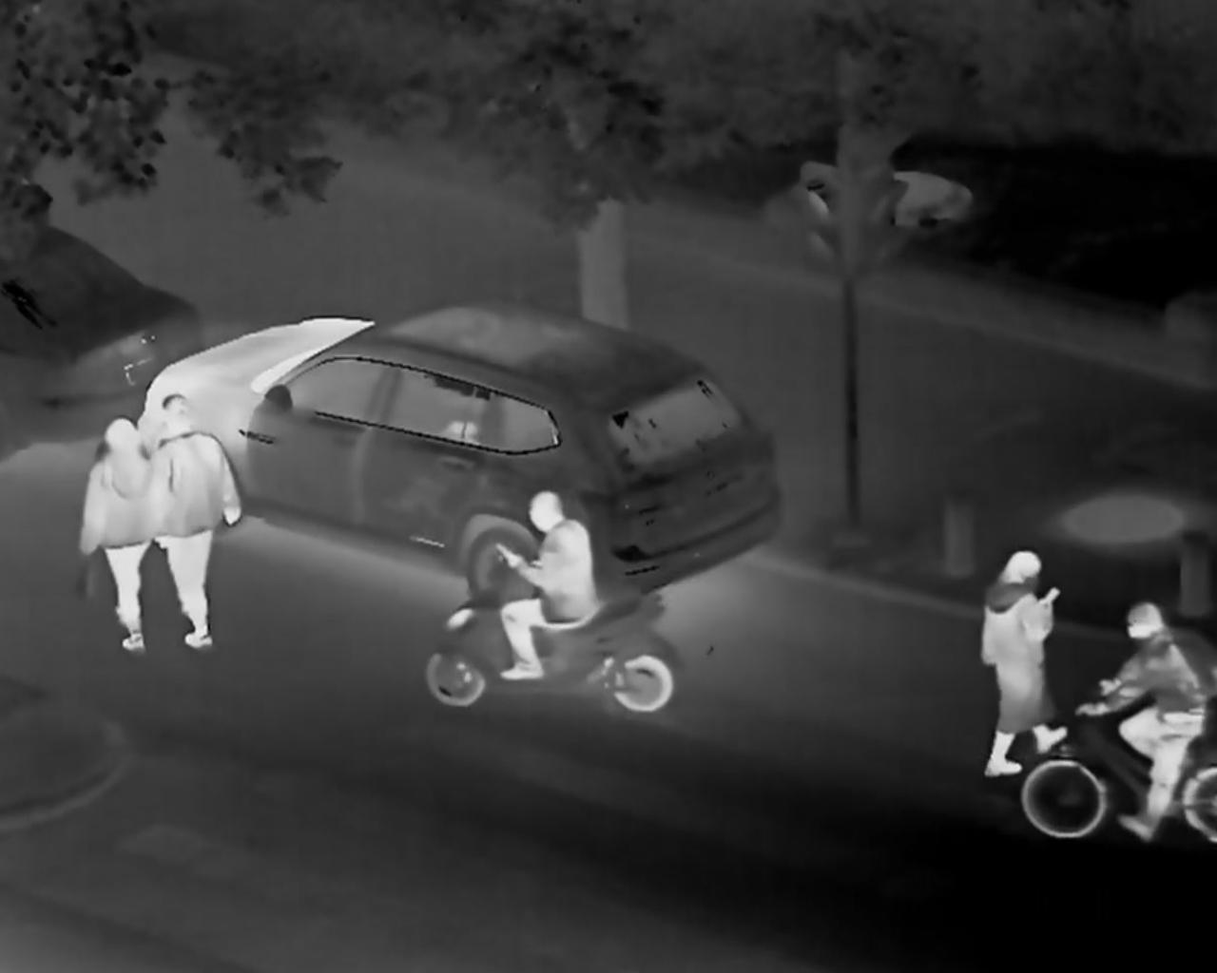person: (1094, 586, 1217, 849), (962, 536, 1069, 773), (156, 386, 243, 662), (75, 411, 160, 668), (511, 481, 600, 687)
